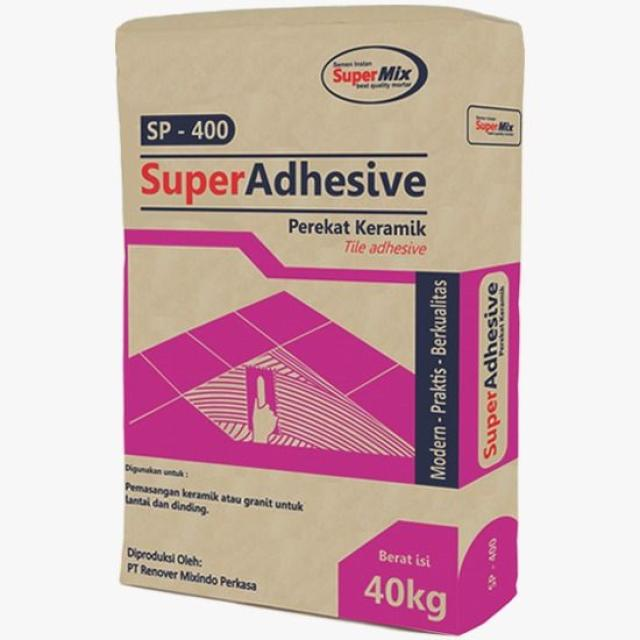KantongSemen: (114, 2, 525, 636)
